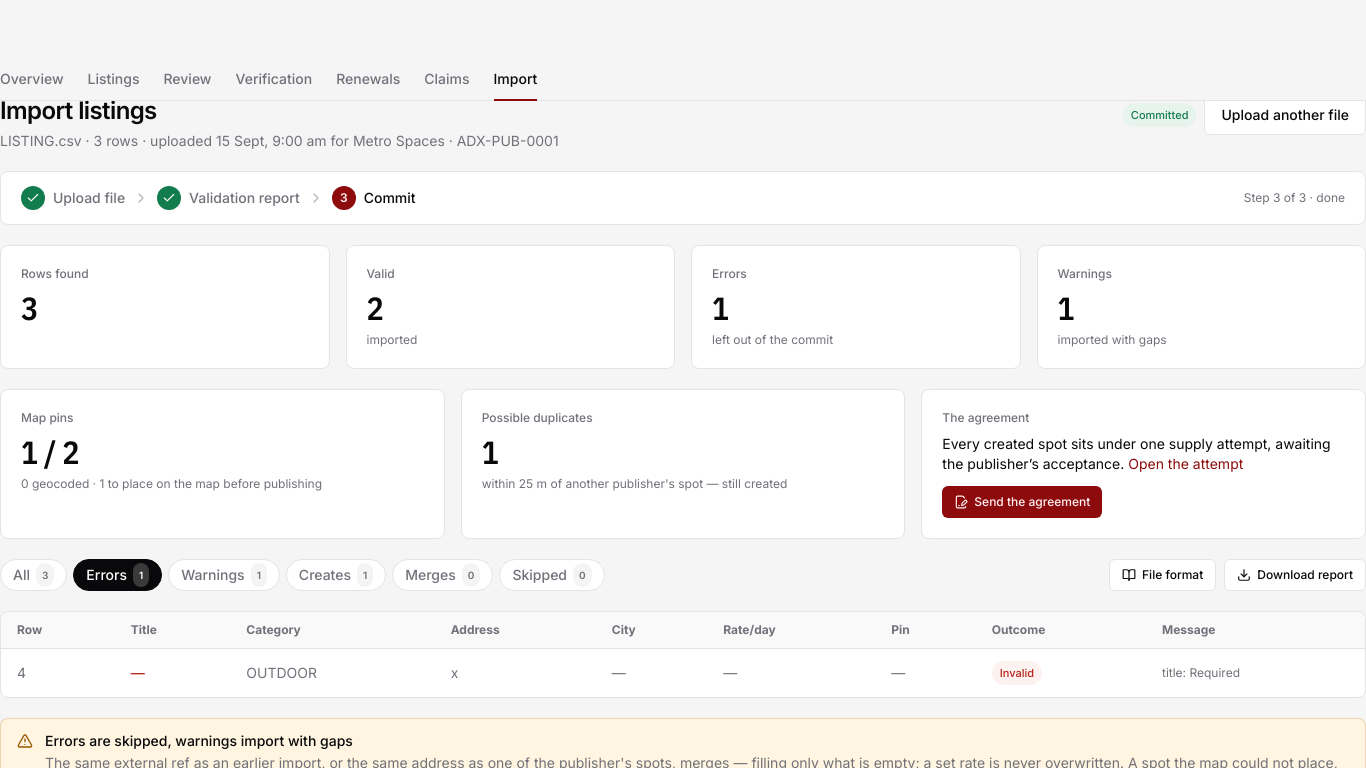
Test: the Listings section's Import tab › a committed listings report: the map pins, the possible duplicates, and Send the agreement over the attempt
The image size is (1366, 768).
Check: the text "Rows found" is shown, box [21, 266, 89, 281]
Check: the text "Map pins" is shown, box [21, 410, 74, 425]
Click the button "Send the agreement". click: [1022, 502]
box: [942, 486, 1102, 518]
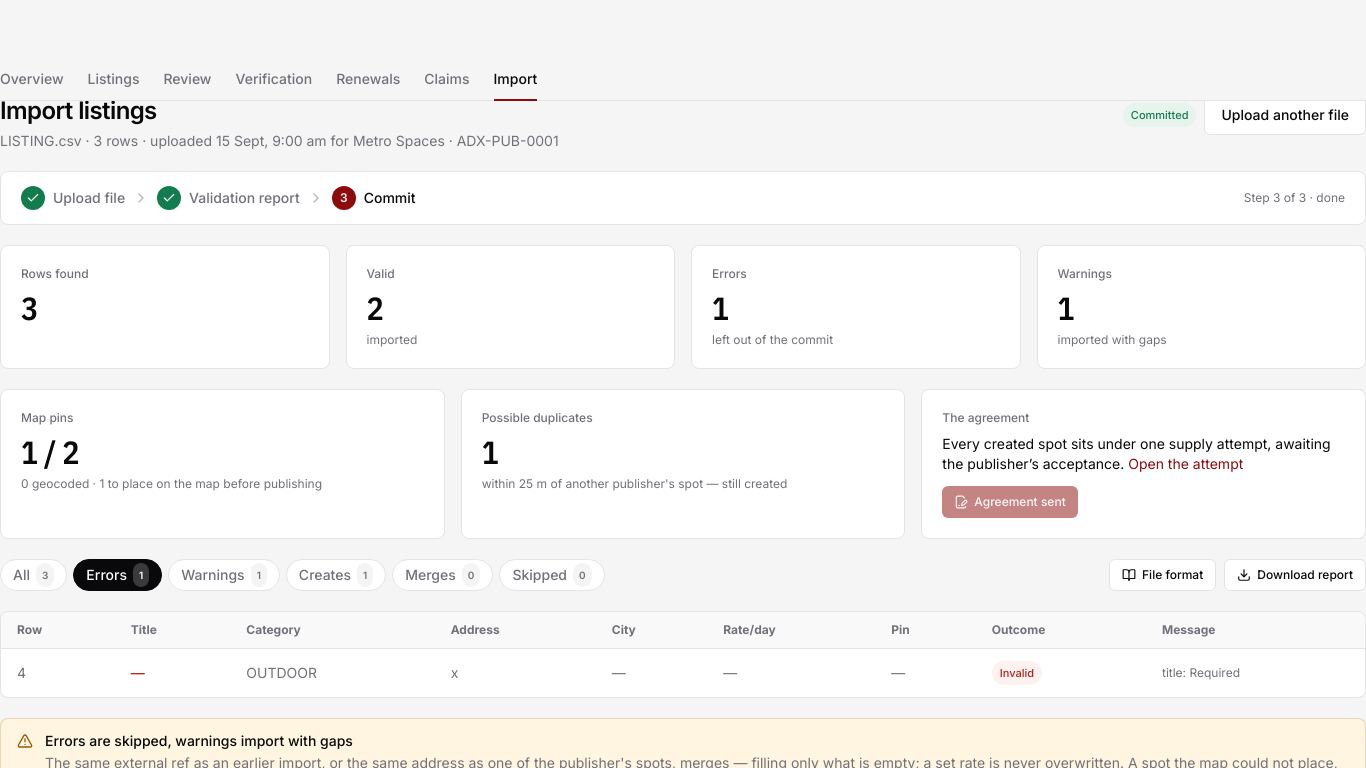
Check: the button "Agreement sent" is disabled, box [942, 486, 1078, 518]
Click the tab "All 3". click: [34, 575]
box: [0, 559, 67, 591]
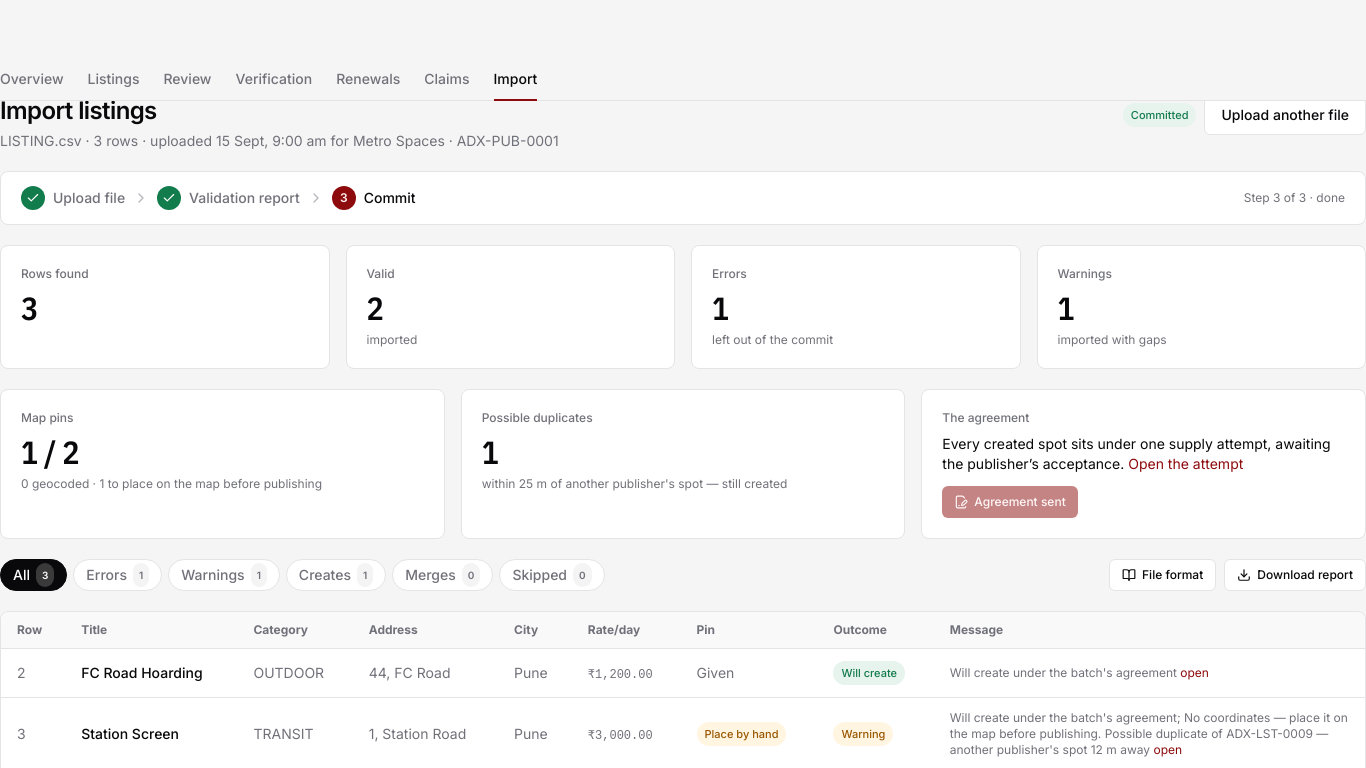
Check: the text "Place by hand" is shown, box [696, 722, 786, 746]
Check: the text "Given" is shown, box [696, 664, 734, 681]
Check: the text "₹1,200.00" is shown, box [588, 668, 653, 682]
